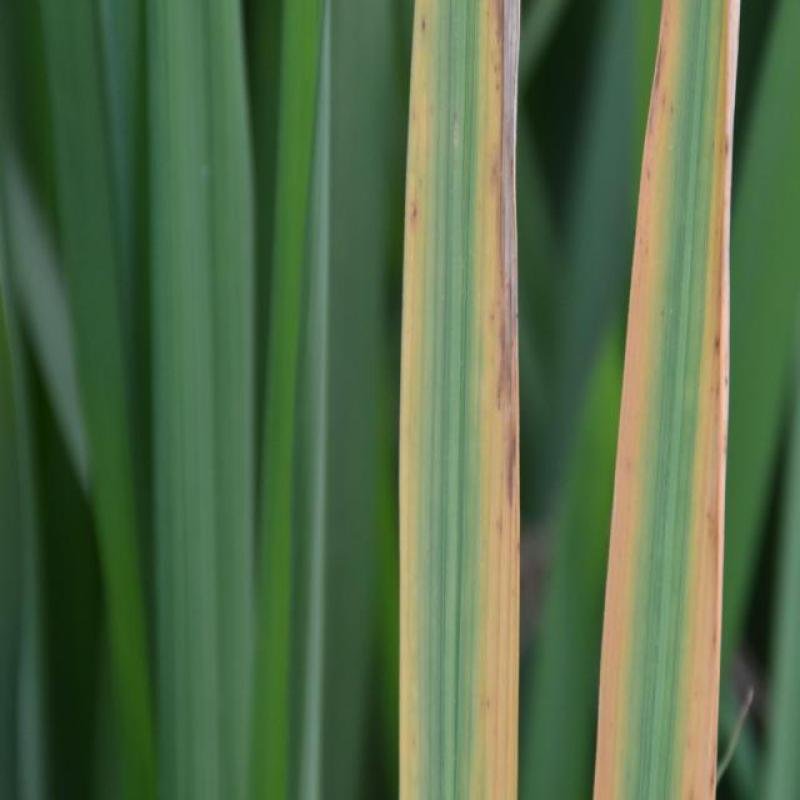Rice Tungro: (396, 15, 734, 791)
